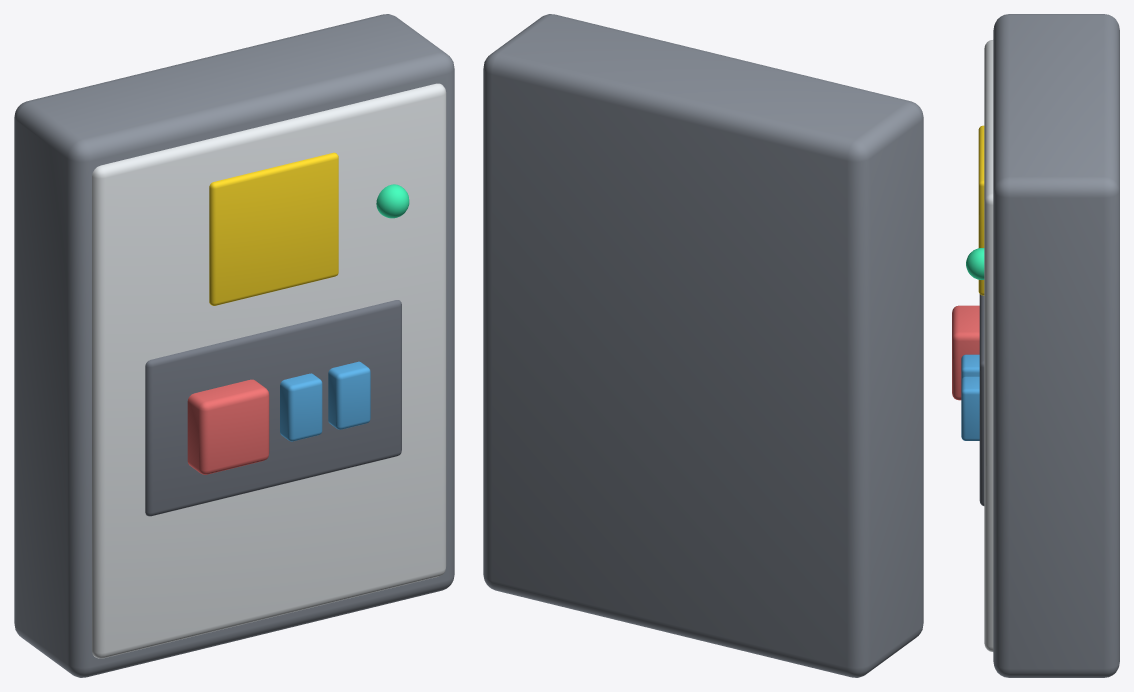
The model's file is SM_BreakerBox.fbx.
The picture shows the model from 3 angles, left to right: view 1: azimuth 30°, elevation 25°; view 2: azimuth 150°, elevation 25°; view 3: azimuth 270°, elevation 25°; orthographic projection. The views are drawn at different scales.
Visible parts, largest first — view 1: SM_BreakerBox; view 2: SM_BreakerBox; view 3: SM_BreakerBox.
Boxes of the visible parts, x1,y1,x2,y2 form: SM_BreakerBox: [14, 14, 454, 677]; SM_BreakerBox: [483, 14, 923, 677]; SM_BreakerBox: [952, 14, 1119, 677].
Bounding box in the file's own units: 41.4 × 55.2 × 16.79.
